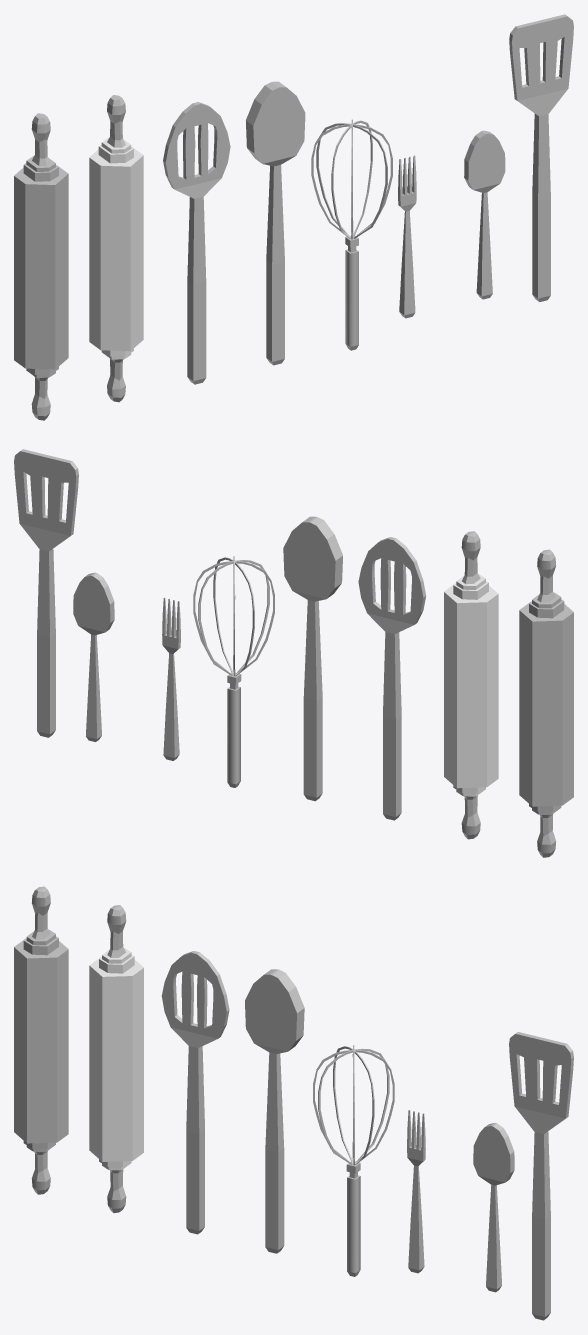
Rendered from Utensilios de Cozinha.FBX.
3 views of the same model, one above another, from view 1: azimuth 30°, elevation 25°; view 2: azimuth 150°, elevation 25°; view 3: azimuth 330°, elevation 25° (orthographic).
Visible parts, largest first — view 1: Box009, Box004, Box001, Box007, Box006, Box008, Box003, Box005; view 2: Box004, Box009, Box001, Box007, Box006, Box008, Box003, Box005; view 3: Box004, Box009, Box001, Box007, Box006, Box008, Box003, Box005.
Part boxes in pixels (x1,y1,x2,y2): Box009: [14, 113, 68, 420]; Box004: [89, 95, 143, 402]; Box001: [509, 14, 573, 301]; Box007: [163, 102, 230, 384]; Box006: [246, 81, 305, 365]; Box008: [311, 119, 392, 350]; Box003: [464, 130, 505, 299]; Box005: [398, 155, 416, 318]; Box004: [444, 531, 498, 839]; Box009: [519, 549, 573, 857]; Box001: [14, 449, 78, 737]; Box007: [358, 537, 426, 820]; Box006: [283, 516, 342, 801]; Box008: [193, 556, 274, 787]; Box003: [73, 572, 114, 741]; Box005: [162, 597, 180, 760]; Box004: [89, 905, 143, 1212]; Box009: [14, 886, 68, 1194]; Box001: [509, 1032, 573, 1320]; Box007: [161, 951, 229, 1234]; Box006: [245, 969, 304, 1253]; Box008: [313, 1045, 394, 1276]; Box003: [473, 1123, 514, 1292]; Box005: [407, 1110, 425, 1273].
Size of the model in its own units: 235 by 126 by 26.22.
